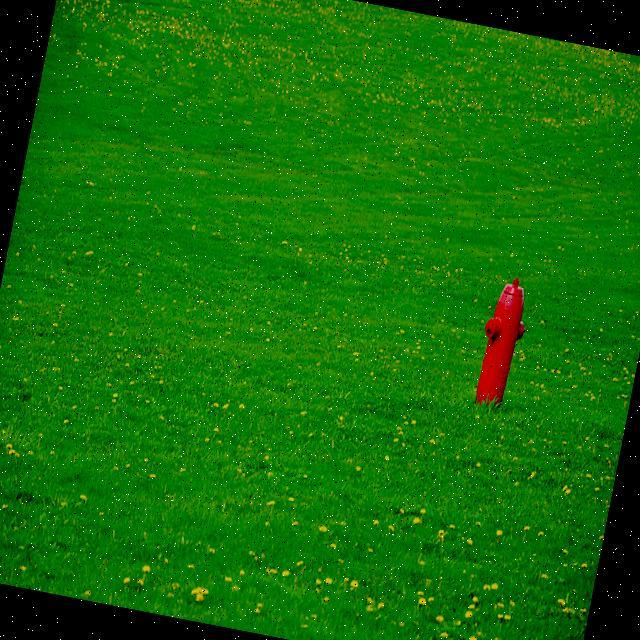fire_hydrant: (470, 274, 534, 412)
